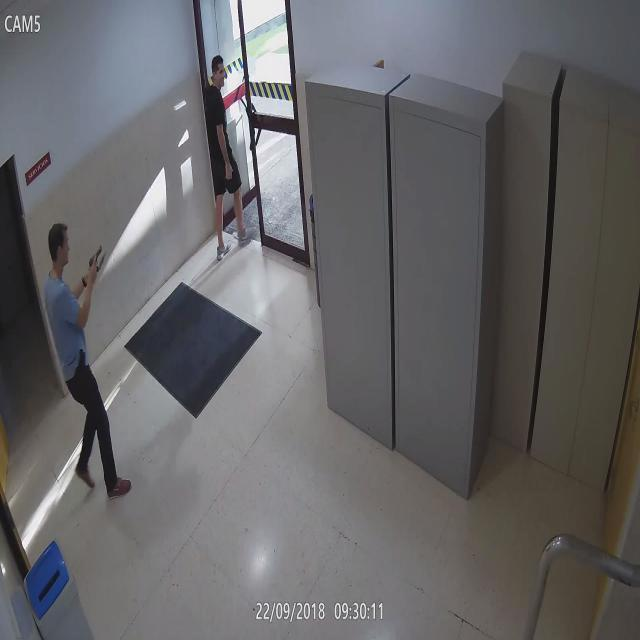weapon: (88, 246, 105, 276)
